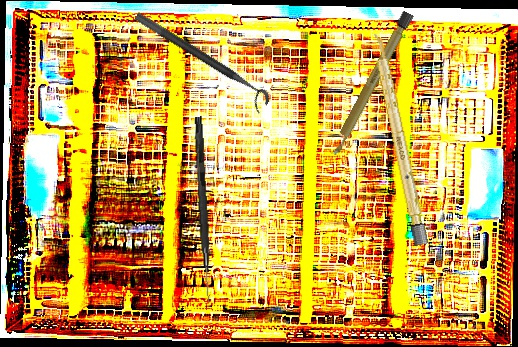Fixation Ring: (126, 10, 274, 116)
Hook Surgical: (191, 116, 216, 304)
Scalpel Handle: (369, 31, 429, 247), (328, 10, 414, 158)
